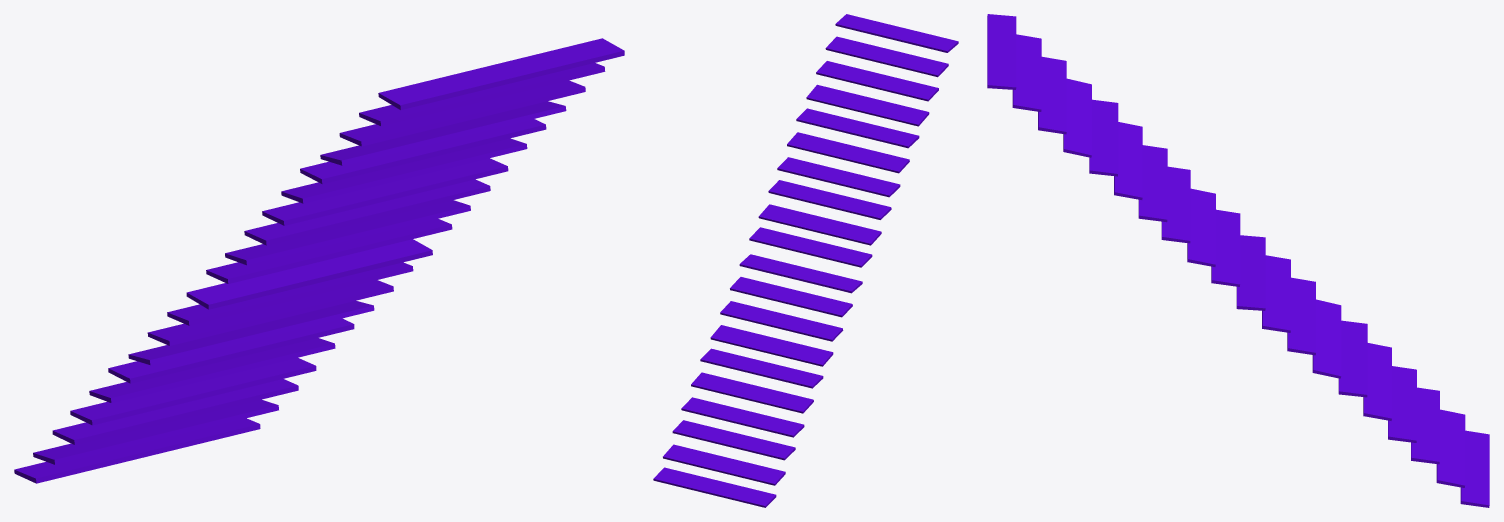
Rendered from Stone_Stairs_Big_B.fbx.
3 renders of one model, left to right at view 1: azimuth 30°, elevation 25°; view 2: azimuth 150°, elevation 25°; view 3: azimuth 270°, elevation 25°, orthographic. The views are drawn at different scales.
Parts seen in each view (by area): view 1: Stone_Stairs_Big_B; view 2: Stone_Stairs_Big_B; view 3: Stone_Stairs_Big_B.
Part boxes in pixels (box(x1,y1,x2,y2)): Stone_Stairs_Big_B: box(14, 38, 624, 483); Stone_Stairs_Big_B: box(653, 14, 958, 507); Stone_Stairs_Big_B: box(987, 14, 1489, 507).
Bounding box in the file's own units: 198 × 550 × 592.
